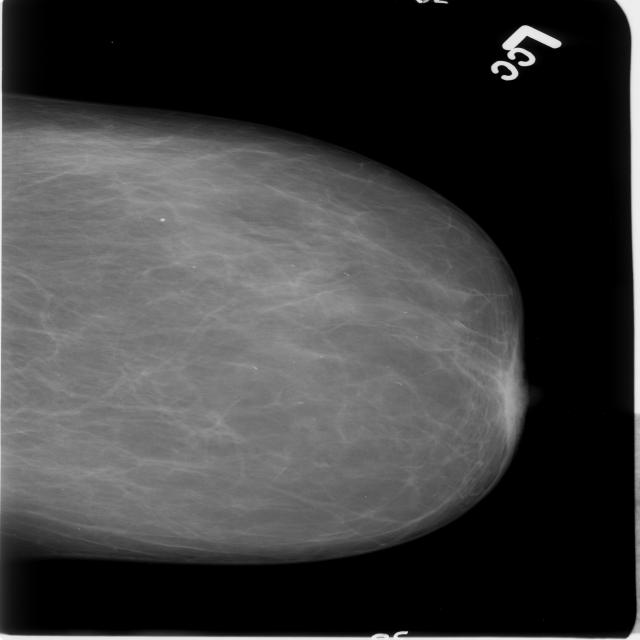normal: (0, 84, 577, 566)
